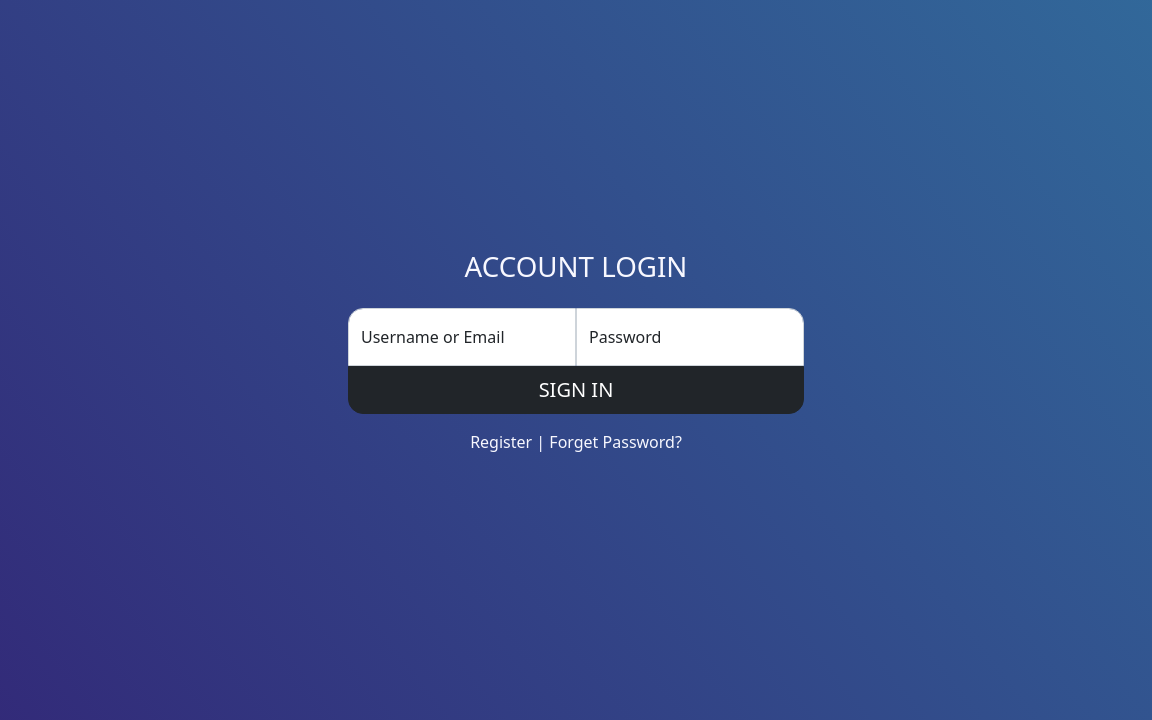
it: login page test › should show error message if either two column or both not fill
Expected: the field with placeholder "username or email" is empty, [348,308,576,366]
Expected: the password field with placeholder "password" is empty, [576,308,804,366]
Click the button "SIGN IN": (576, 390) [348,366,804,414]
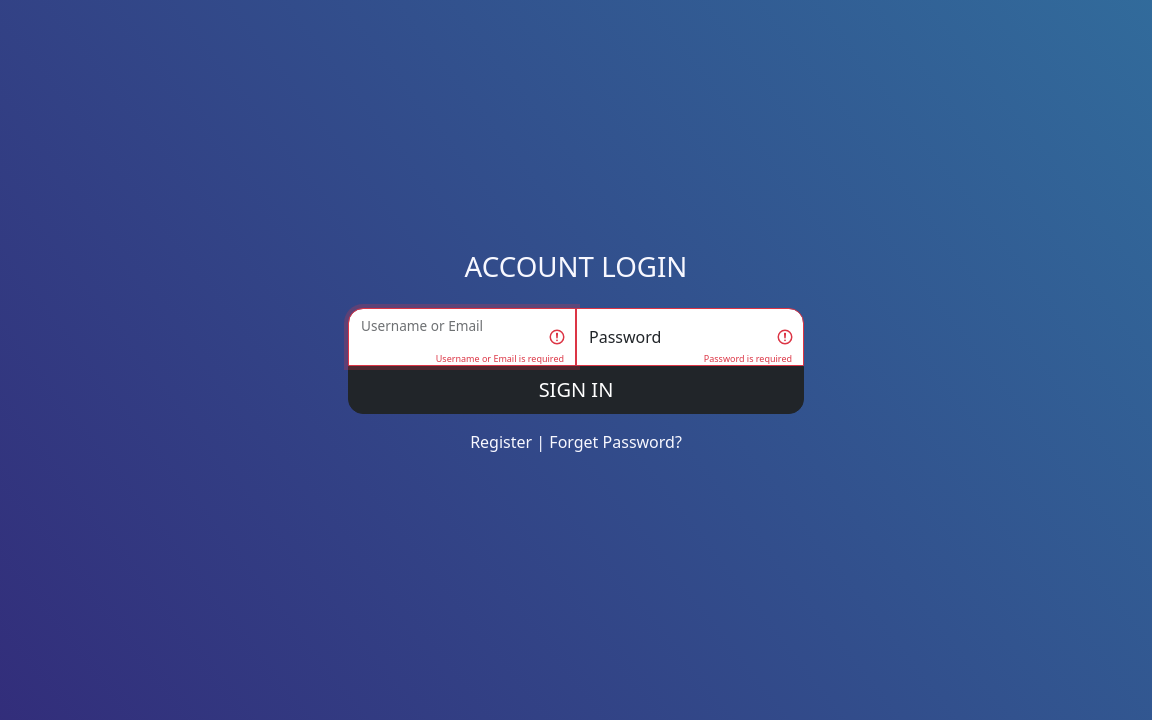
Expected: the text "Username or Email is required" is shown, [436,352,564,365]
Expected: the number of elements with class "invalid-feedback" is 2, [436,352,564,365]; [704,352,792,365]
In the field with placeholder "username or email": (462, 337) [348,308,576,366], type "username"
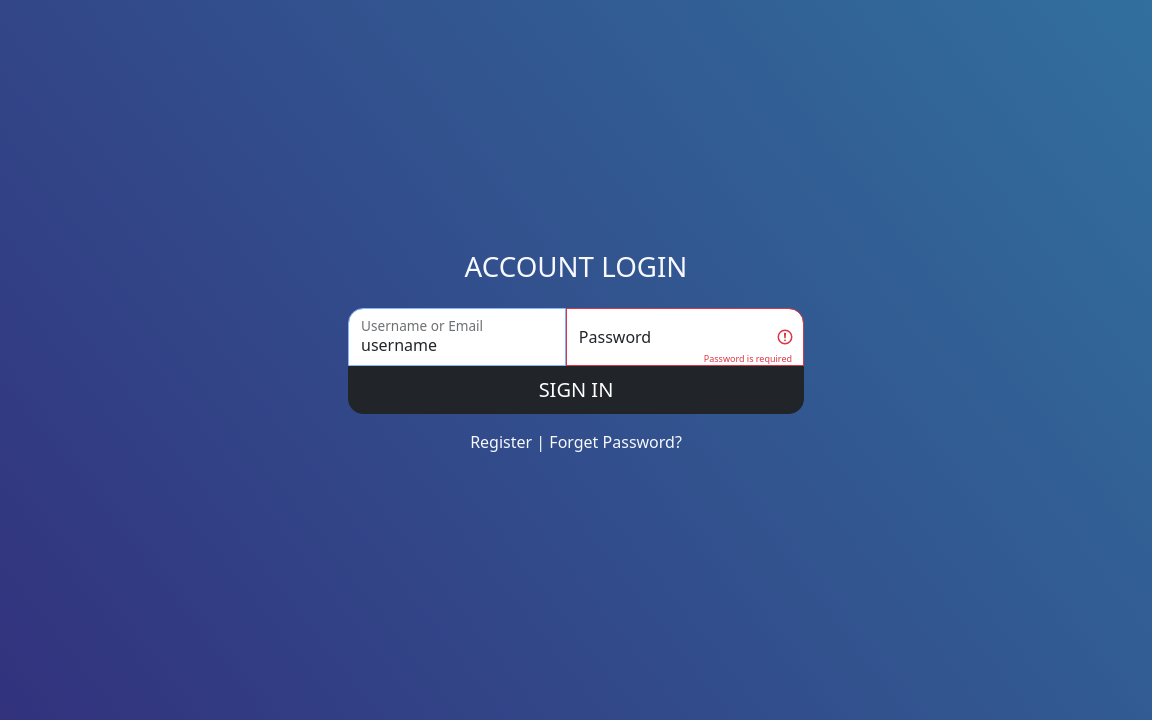
In the password field with placeholder "password": (685, 337) [566,308,804,366], type "123"
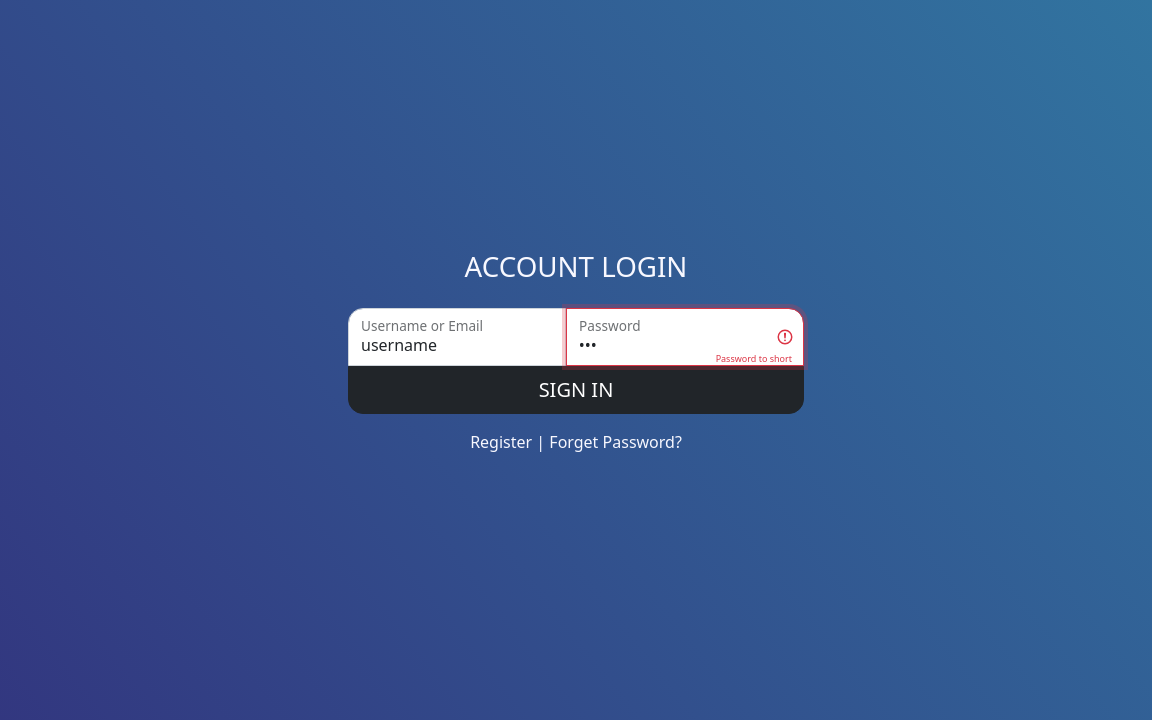
Expected: the text "Password to short" is shown, [716,352,792,365]
In the password field with placeholder "password": (685, 337) [566,308,804,366], type "12345678999999999999999999999999999999999"
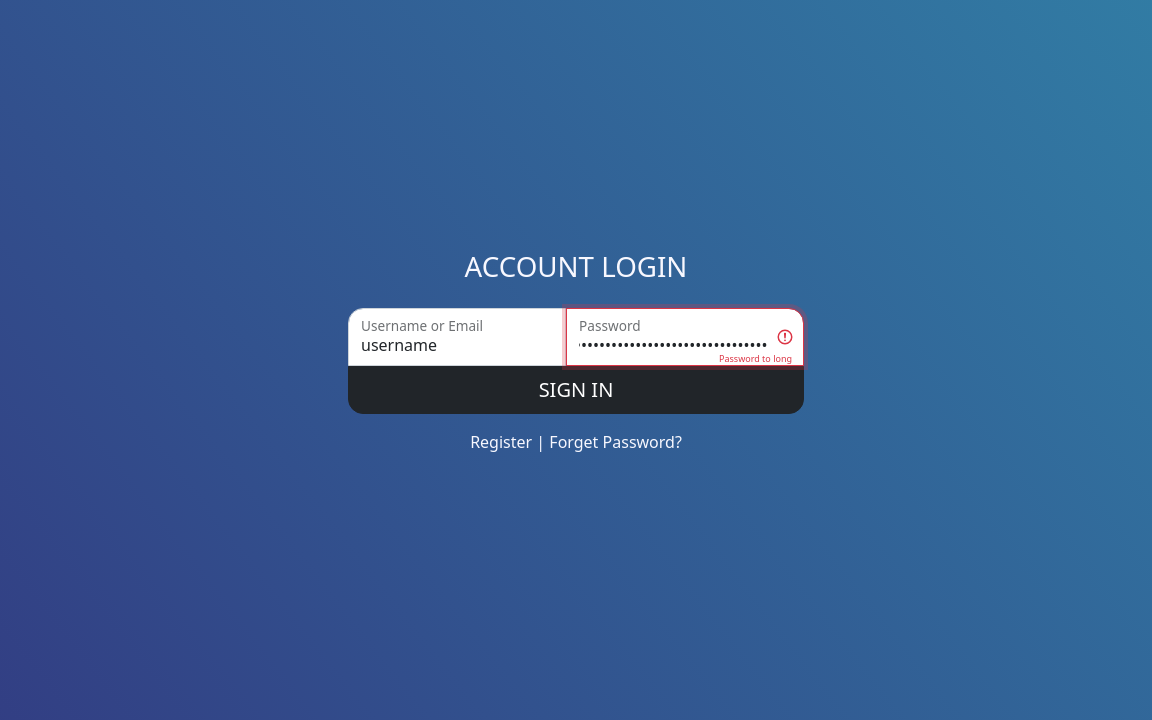
Expected: the text "Password to long" is shown, [719,352,792,365]
